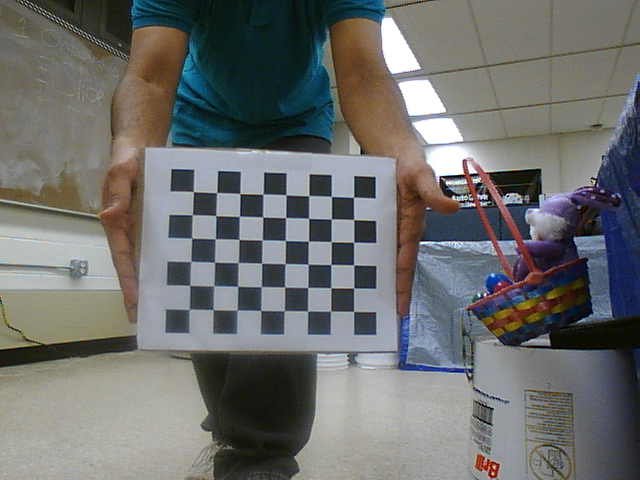bunny: (456, 151, 603, 341)
